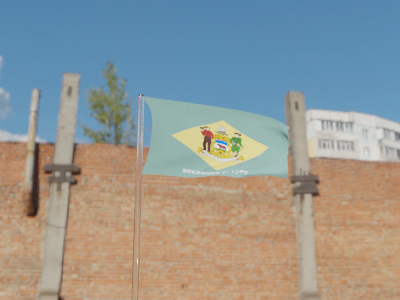Delaware flag: (140, 95, 291, 184)
